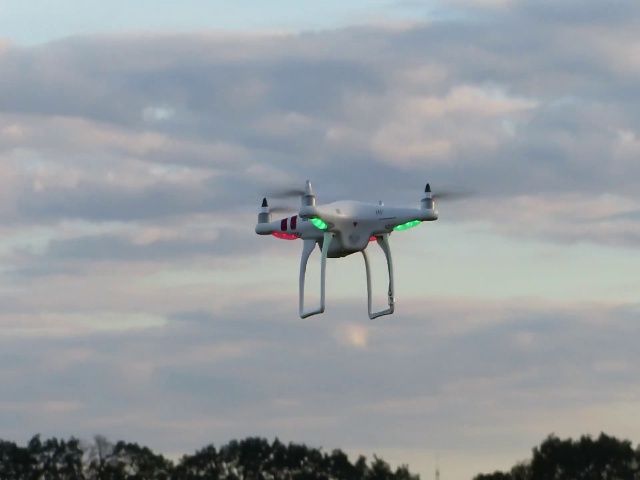drone: (247, 178, 457, 320)
